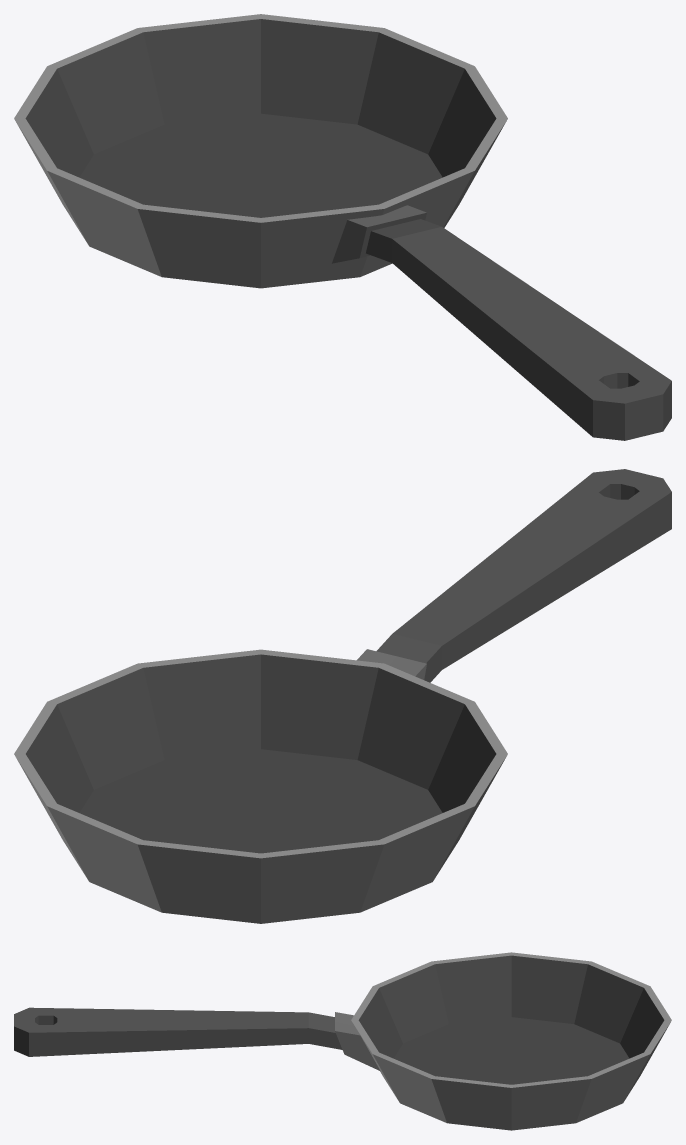
File: Pan_04.fbx
3 renders of one model, top to bottom at view 1: azimuth 30°, elevation 25°; view 2: azimuth 150°, elevation 25°; view 3: azimuth 270°, elevation 25°, orthographic. The views are drawn at different scales.
Visible parts, largest first — view 1: Pan_04; view 2: Pan_04; view 3: Pan_04.
Part boxes in pixels (left/top/right/bottom): Pan_04: left=14, top=14, right=671, bottom=440; Pan_04: left=14, top=469, right=671, bottom=923; Pan_04: left=14, top=952, right=671, bottom=1130.
Size of the model in its own units: 18.36 by 3.53 by 37.64.
